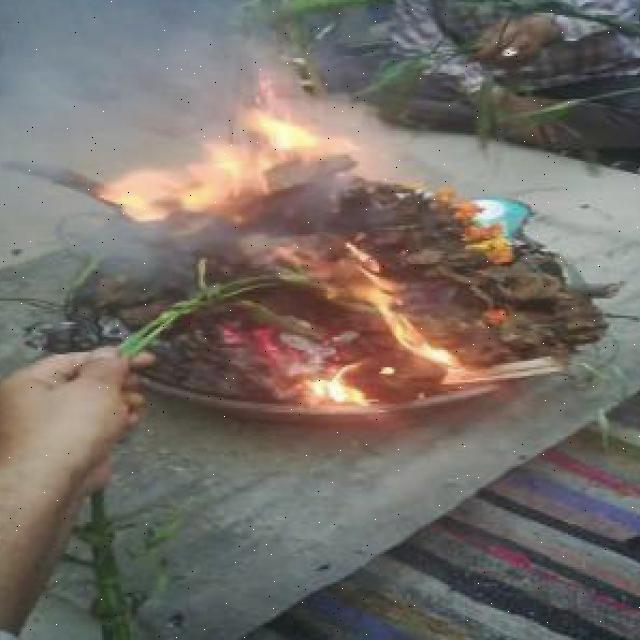fire: (102, 105, 355, 228), (381, 271, 467, 388), (296, 363, 382, 414)
smoke: (0, 110, 98, 316), (100, 228, 293, 290)
